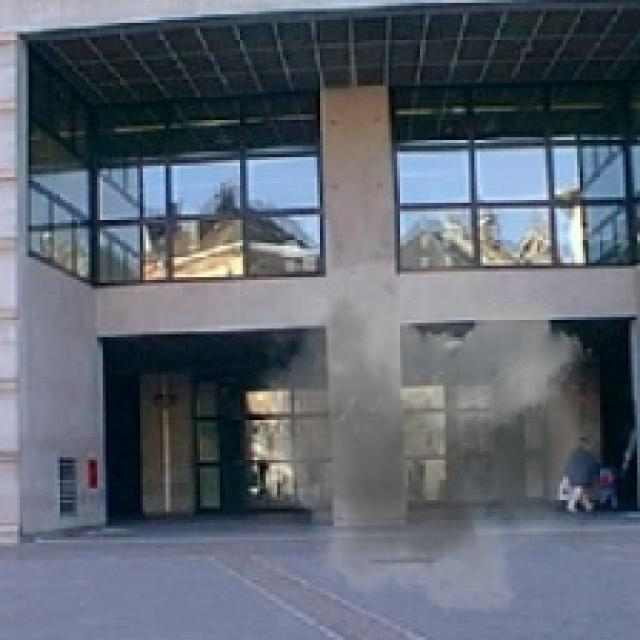Smoke: (243, 215, 606, 634)
